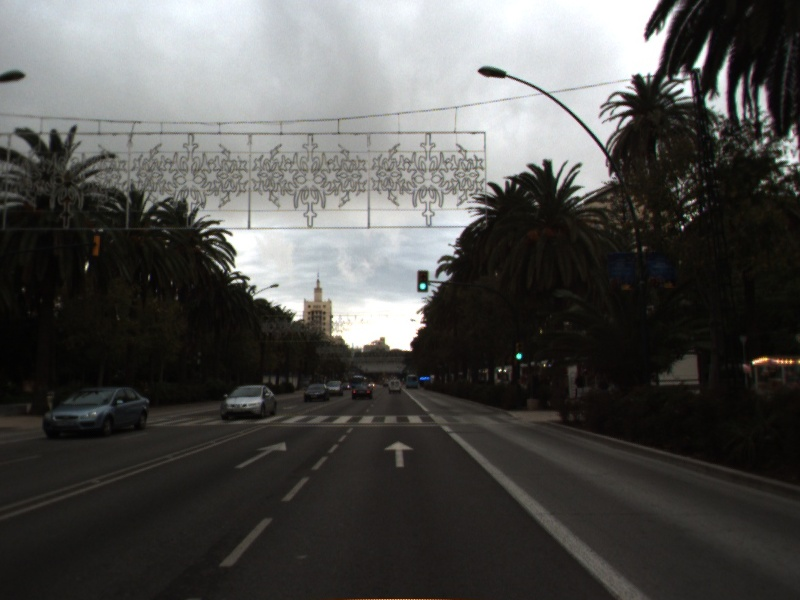STRAIGHT: (232, 439, 289, 470), (382, 438, 416, 469)
